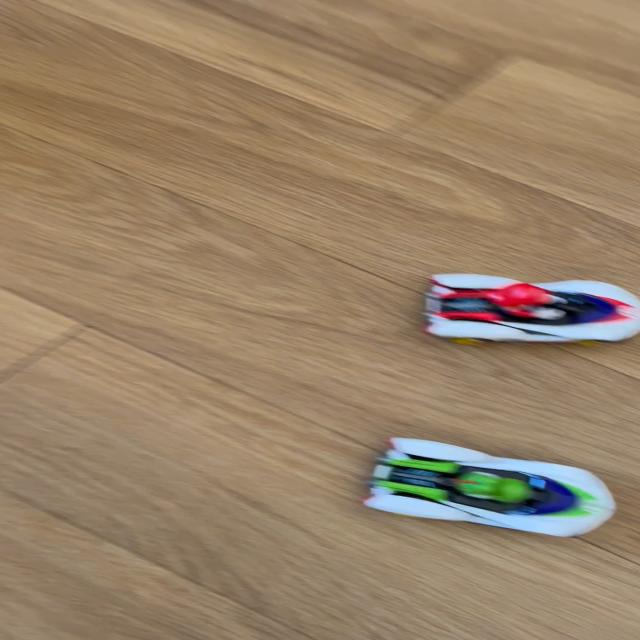mario: (415, 271, 640, 352)
yoshi: (349, 432, 630, 539)
